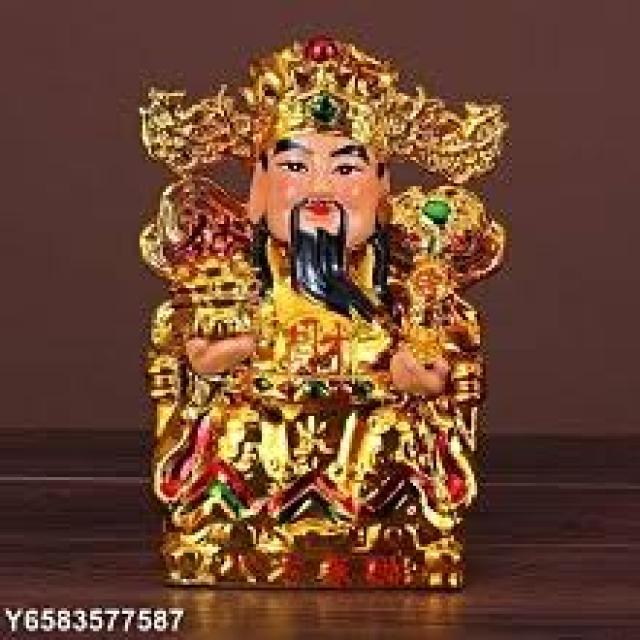Cai shen: (137, 41, 509, 468)
